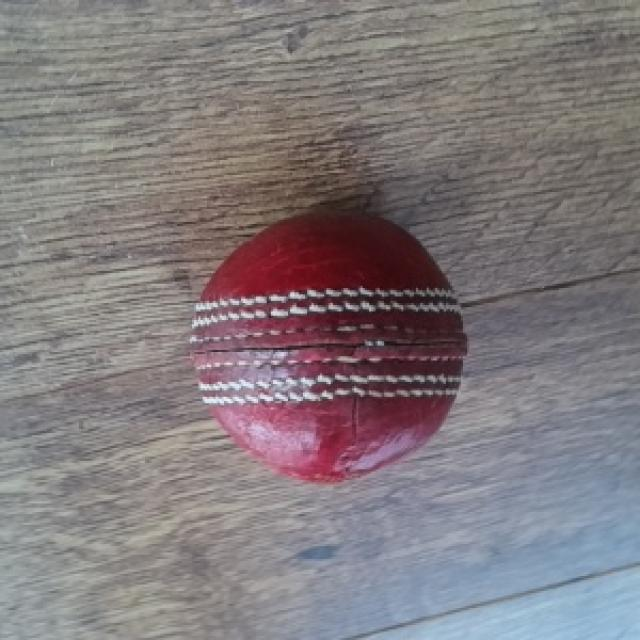ball: (187, 217, 473, 483)
